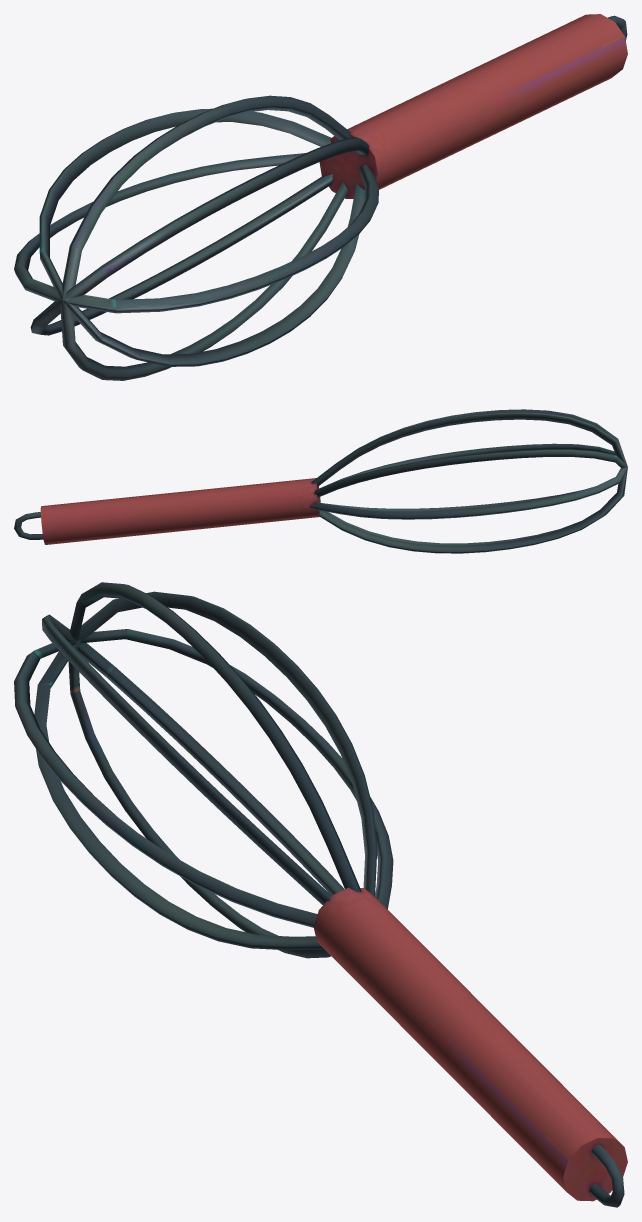
The model's file is whisk.gltf.
3 renders of one model, top to bottom at view 1: azimuth 30°, elevation 25°; view 2: azimuth 150°, elevation 25°; view 3: azimuth 270°, elevation 25°, orthographic. The views are drawn at different scales.
Parts seen in each view (by area): view 1: Whisk; view 2: Whisk; view 3: Whisk.
Boxes of the visible parts, box(x1,y1,x2,y2) form: Whisk: box(14, 14, 627, 380); Whisk: box(14, 409, 627, 553); Whisk: box(14, 582, 627, 1207).
Bounding box in the file's own units: 0.2917 × 0.082 × 0.1735.
1 material, 1 textured.
